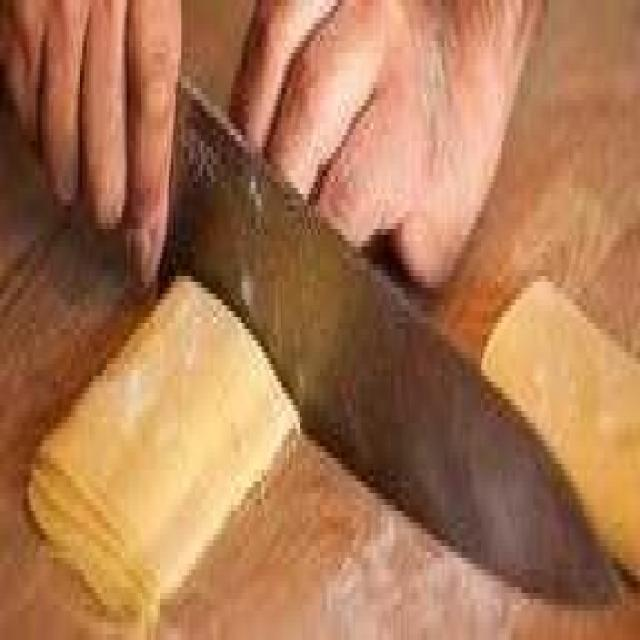Knife: (19, 0, 617, 639)
